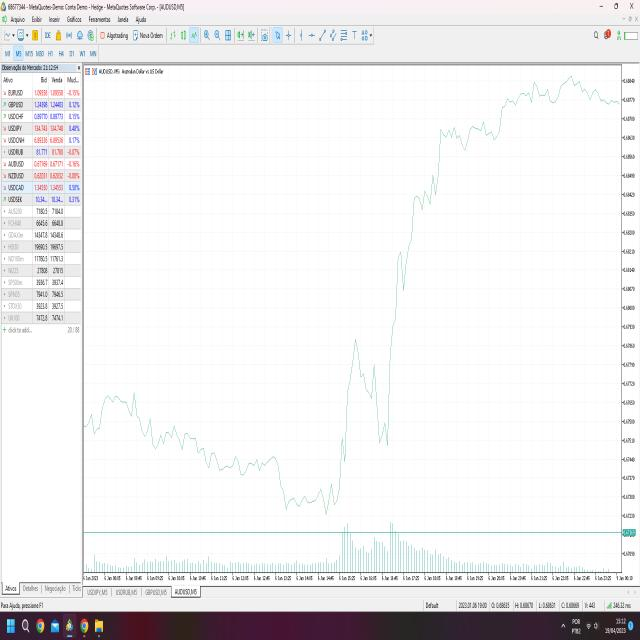bandeira_alta: (403, 161, 437, 289)
